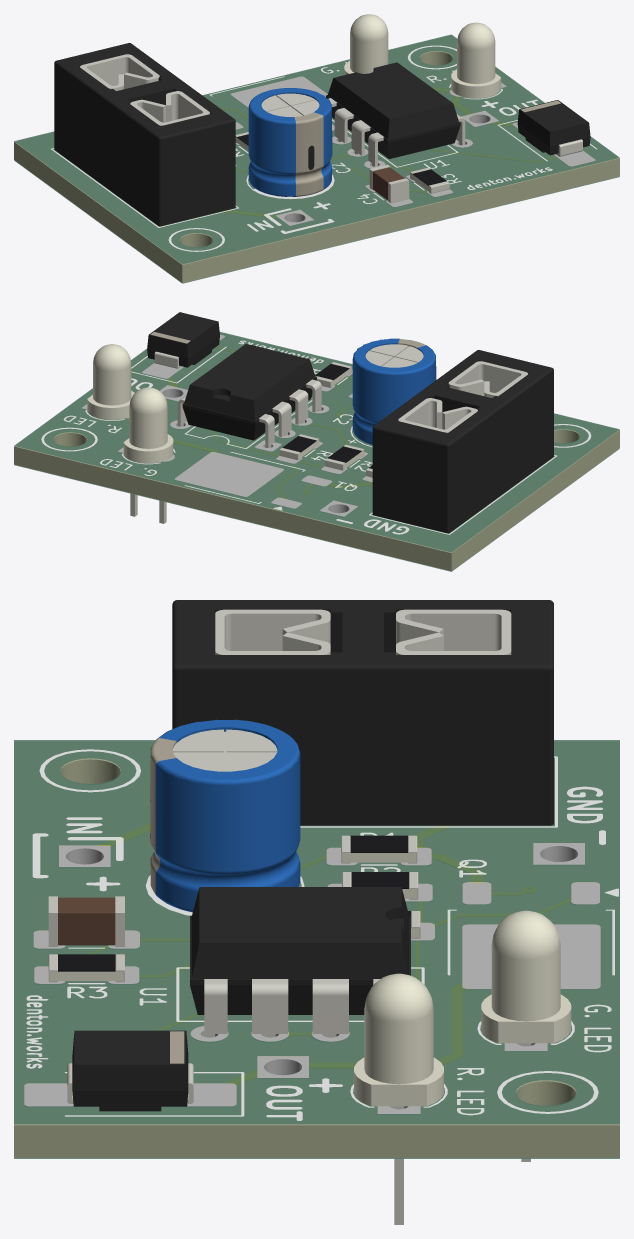
File: alternator_555_timer.glb
3 renders of one model, top to bottom at view 1: azimuth 30°, elevation 25°; view 2: azimuth 150°, elevation 25°; view 3: azimuth 270°, elevation 25°, orthographic. The views are drawn at different scales.
Visible parts, largest first — view 1: =>[0:1:1:17], =>[0:1:1:15], F1, U1, C2, =>[0:1:1:13], D1, D4, =>[0:1:1:11], D3, C4, =>[0:1:1:16] (+2 smaller); view 2: =>[0:1:1:17], =>[0:1:1:15], F1, U1, C2, =>[0:1:1:11], D3, D1, =>[0:1:1:13], D4, =>[0:1:1:16], R2 (+3 smaller); view 3: =>[0:1:1:17], =>[0:1:1:15], F1, U1, C2, =>[0:1:1:11], =>[0:1:1:13], D4, D1, D3, C4, =>[0:1:1:10] (+3 smaller).
Part boxes in pixels (x1,y1,x2,y2): =>[0:1:1:17]: (14, 35, 619, 282); =>[0:1:1:15]: (14, 34, 619, 264); F1: (54, 43, 235, 226); U1: (326, 62, 465, 166); C2: (248, 88, 332, 196); =>[0:1:1:13]: (51, 45, 596, 251); D1: (517, 100, 590, 156); D4: (451, 22, 501, 98); =>[0:1:1:11]: (230, 76, 595, 225); D3: (344, 14, 388, 74); C4: (369, 164, 409, 203); =>[0:1:1:16]: (14, 160, 619, 283); =>[0:1:1:17]: (14, 333, 619, 571); =>[0:1:1:15]: (14, 332, 619, 552); F1: (372, 350, 553, 533); U1: (177, 344, 321, 447); C2: (352, 338, 436, 444); =>[0:1:1:11]: (81, 334, 372, 516); D3: (123, 387, 173, 523); D1: (147, 312, 219, 368); =>[0:1:1:13]: (41, 340, 591, 534); D4: (87, 344, 134, 419); =>[0:1:1:16]: (14, 448, 619, 571); R2: (324, 444, 364, 470); =>[0:1:1:17]: (14, 742, 619, 1157); =>[0:1:1:15]: (14, 740, 619, 1124); F1: (172, 600, 553, 825); U1: (190, 887, 410, 1037); C2: (150, 719, 300, 912); =>[0:1:1:11]: (24, 843, 600, 1114); =>[0:1:1:13]: (26, 749, 618, 1120); D4: (354, 973, 443, 1224); D1: (67, 1030, 193, 1111); D3: (481, 910, 571, 1161); C4: (48, 896, 124, 946); =>[0:1:1:10]: (89, 824, 570, 1085).
Size of the model in its own units: 0.0381 by 0.0129 by 0.0254.
